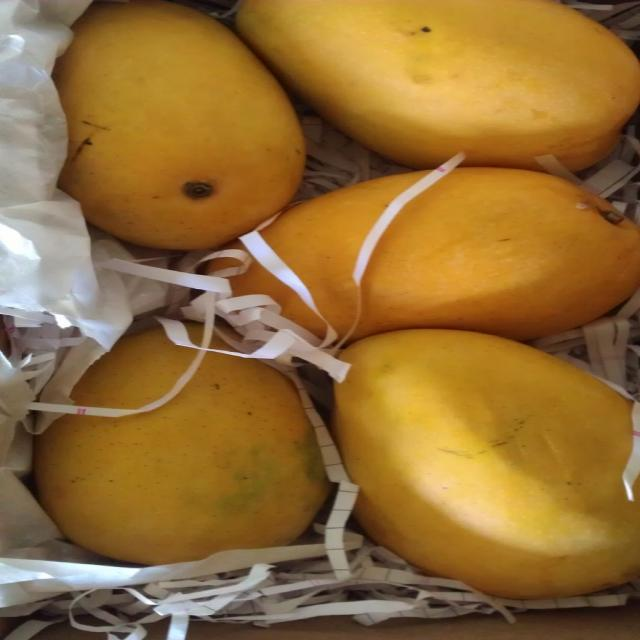Mango: (331, 333, 639, 600), (204, 166, 638, 344), (36, 324, 329, 566), (234, 0, 640, 173), (53, 0, 307, 248)
